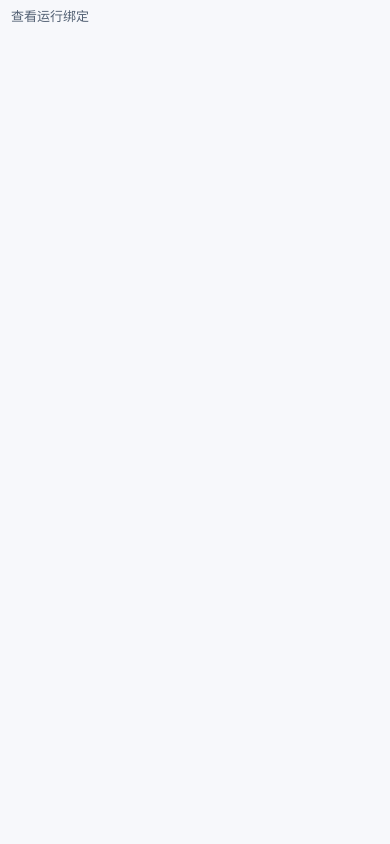
Test: RunBindingButton › defaults a missing origin to manual for old runs
Click the button with test id "run-binding-open" at (50, 16), box [0,0,100,32]
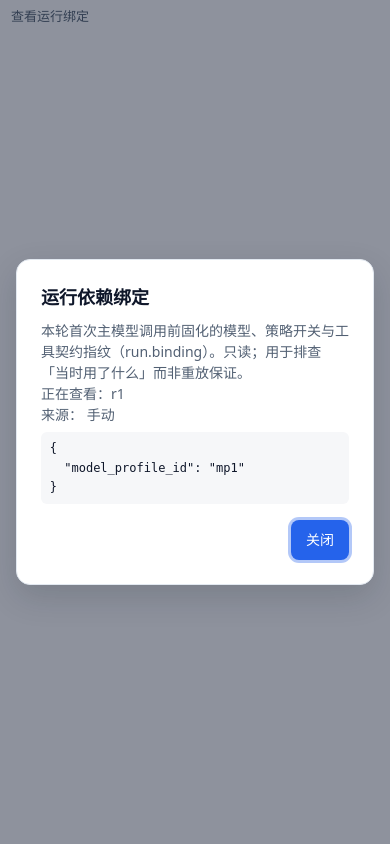
expect the text with test id "run-binding-origin" shows "手动": met, box [87,405,115,424]
